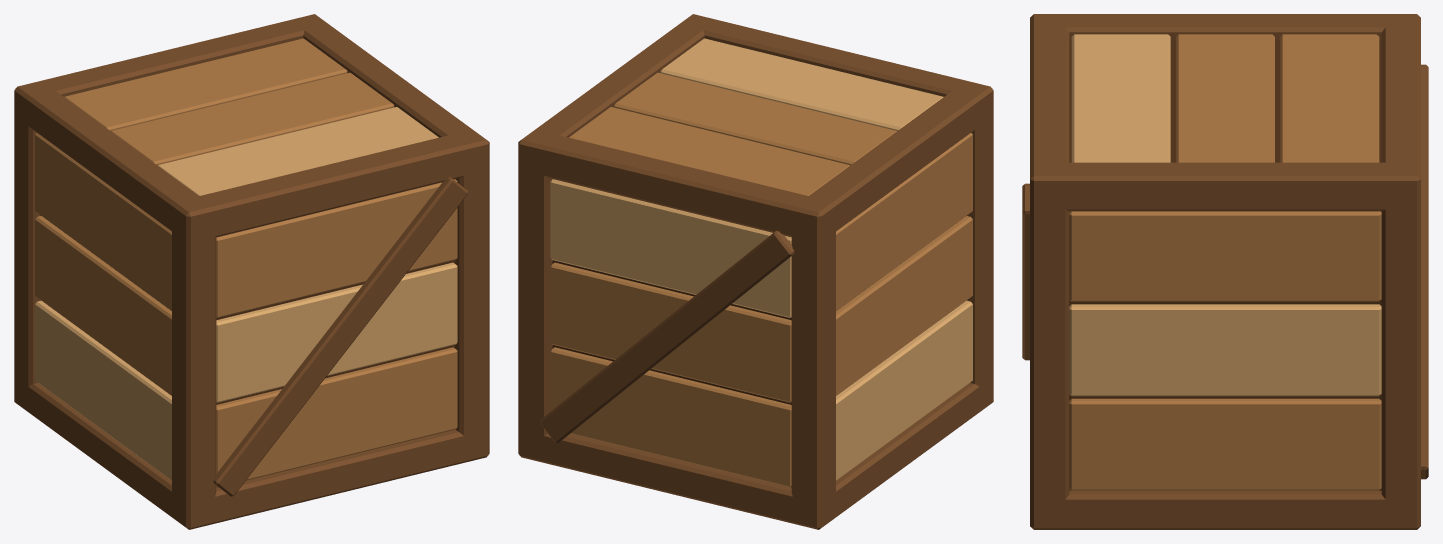
Rendered from SM_Wooden_Crate.glb.
3 views of the same model, side by side, from view 1: azimuth 30°, elevation 25°; view 2: azimuth 150°, elevation 25°; view 3: azimuth 270°, elevation 25° (orthographic). The views are drawn at different scales.
Visible parts, largest first — view 1: SM_Wooden_Crate; view 2: SM_Wooden_Crate; view 3: SM_Wooden_Crate.
Boxes of the visible parts, <box> form: SM_Wooden_Crate: <box>14,14,489,529</box>; SM_Wooden_Crate: <box>518,14,993,529</box>; SM_Wooden_Crate: <box>1022,14,1428,529</box>.
Size of the model in its own units: 0.6 by 0.6 by 0.624.
1 material, 1 textured.
